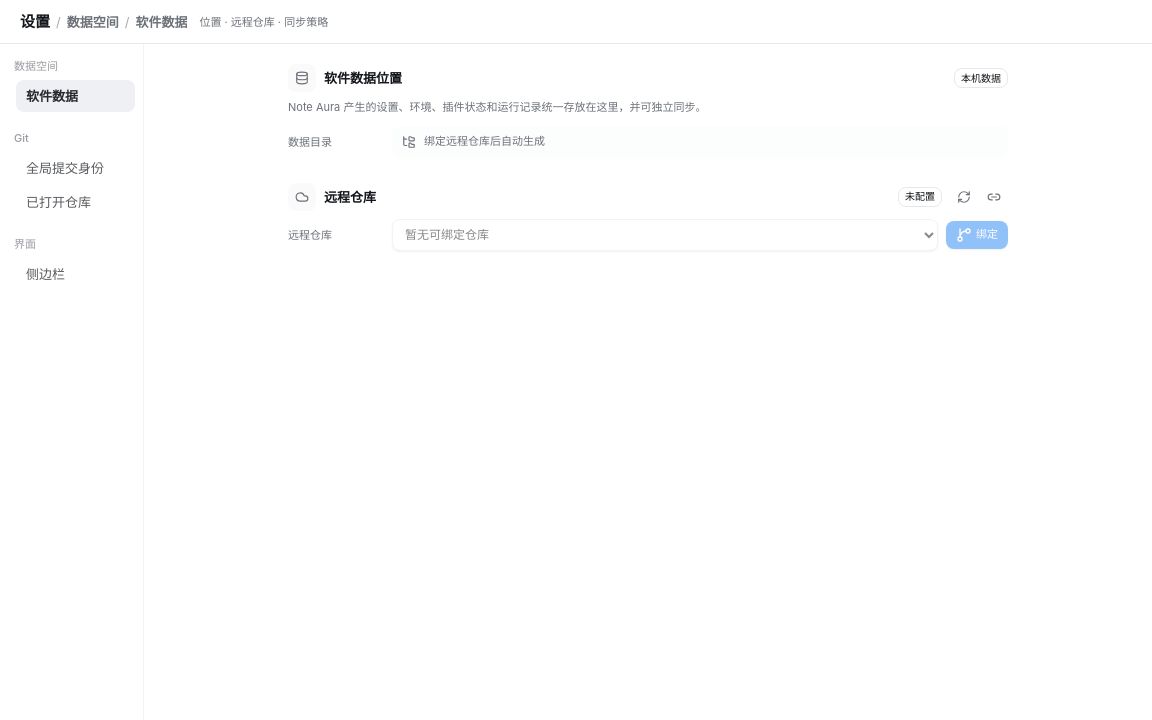
Scenario: SettingsPanel › groups settings by data space and Git purpose
Expected: the text "位置 · 远程仓库 · 同步策略" is shown, [199,14,328,28]
Expected: the element "数据空间" is shown, [8,56,135,112]
Click the button "侧边栏": [76, 274] box [16,258,135,290]
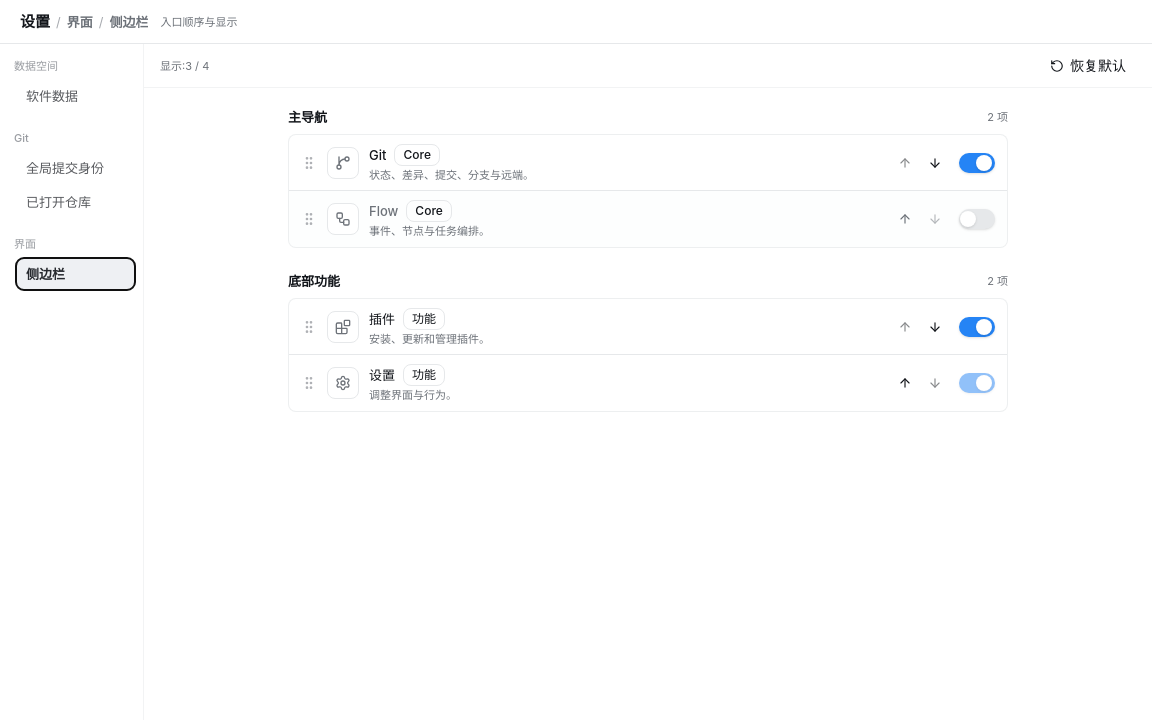
Expected: the text "入口顺序与显示" is shown, [160,14,237,28]
Expected: the text "显示:3 / 4" is shown, [160,58,209,72]
Expected: the element "主导航" is shown, [288,108,1008,248]
